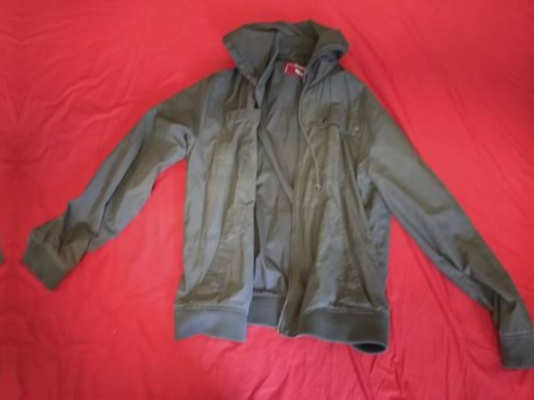Hoodie: (27, 10, 534, 374), (0, 0, 4, 352)
